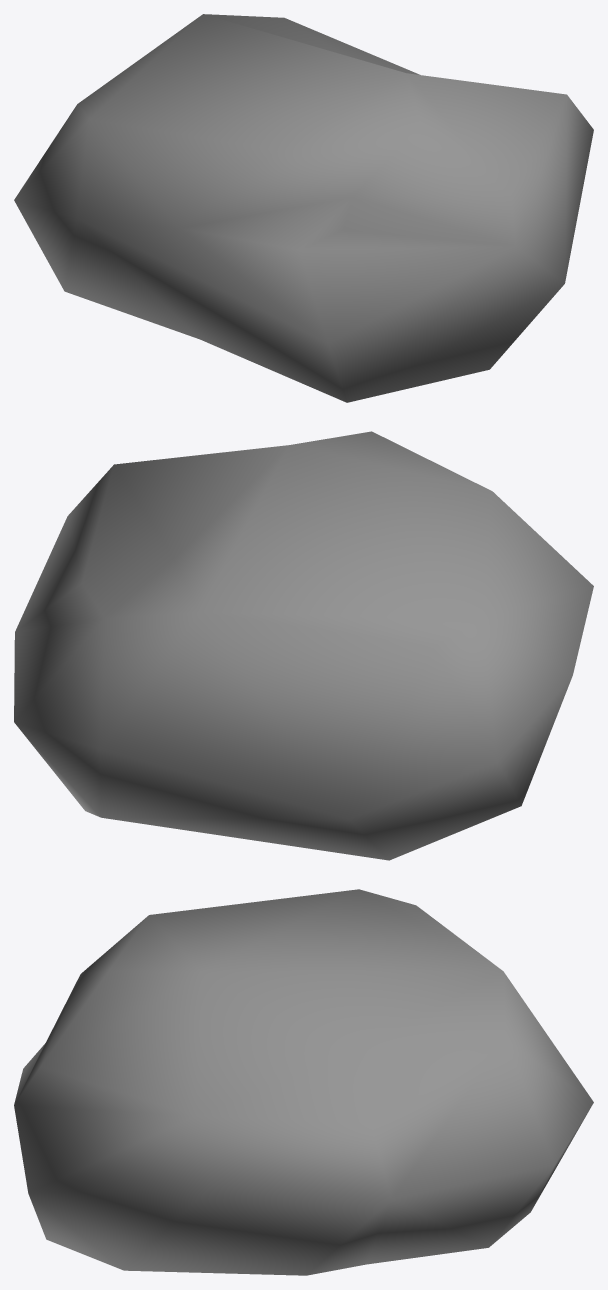
Rendered from Stone4_1.fbx.
3 renders of one model, top to bottom at view 1: azimuth 30°, elevation 25°; view 2: azimuth 150°, elevation 25°; view 3: azimuth 270°, elevation 25°, orthographic. The views are drawn at different scales.
Visible parts, largest first — view 1: Stone1; view 2: Stone1; view 3: Stone1.
Part boxes in pixels (x1,y1,x2,y2): Stone1: (14,14,593,402); Stone1: (14,431,593,860); Stone1: (14,889,593,1275).
Bounding box in the file's own units: 57.04 × 31.62 × 55.81.
